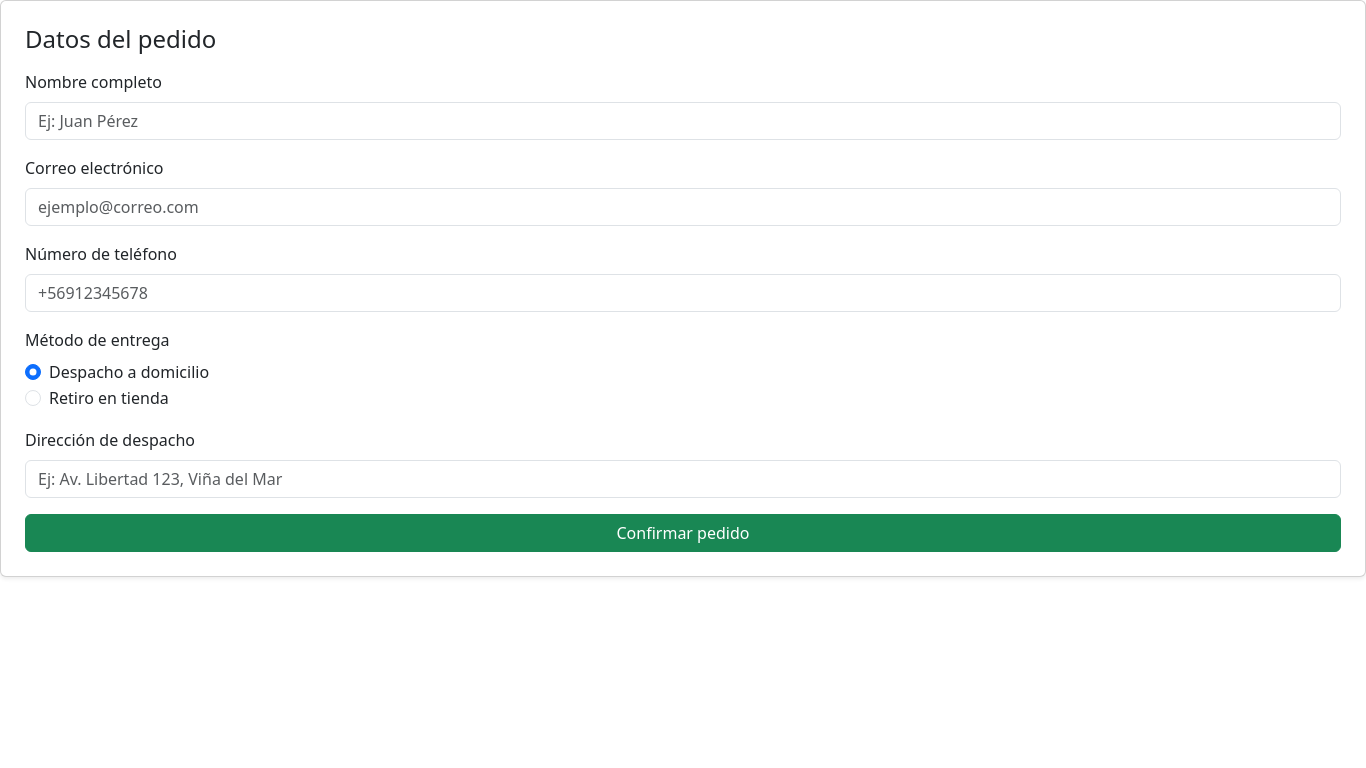
it: OrderForm › oculta la dirección al elegir retiro en tienda
Click the radio button labelled "Retiro en tienda". click: (33, 398)
box: [25,390,41,406]
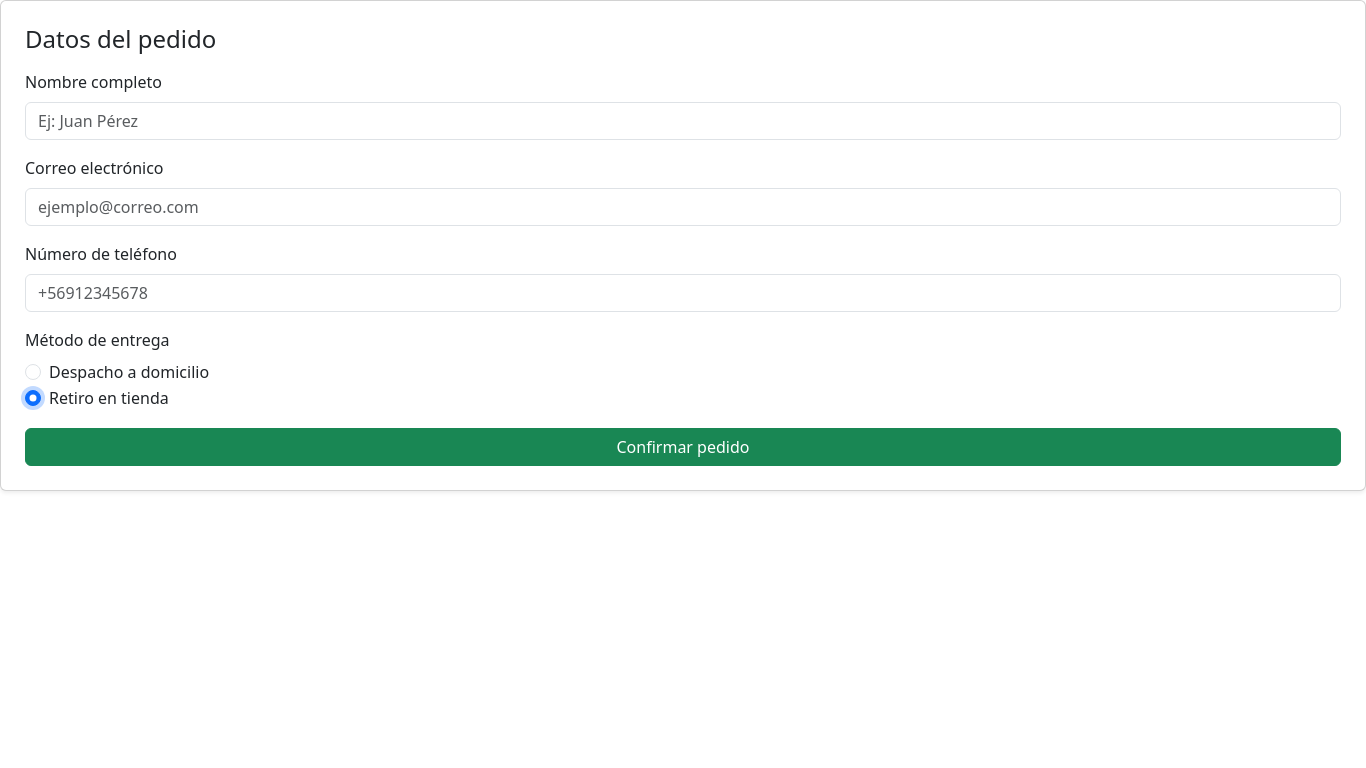
Check: the radio button labelled "Retiro en tienda" is checked, box [25,390,41,406]
Check: the label labelled "Dirección de despacho" is gone
